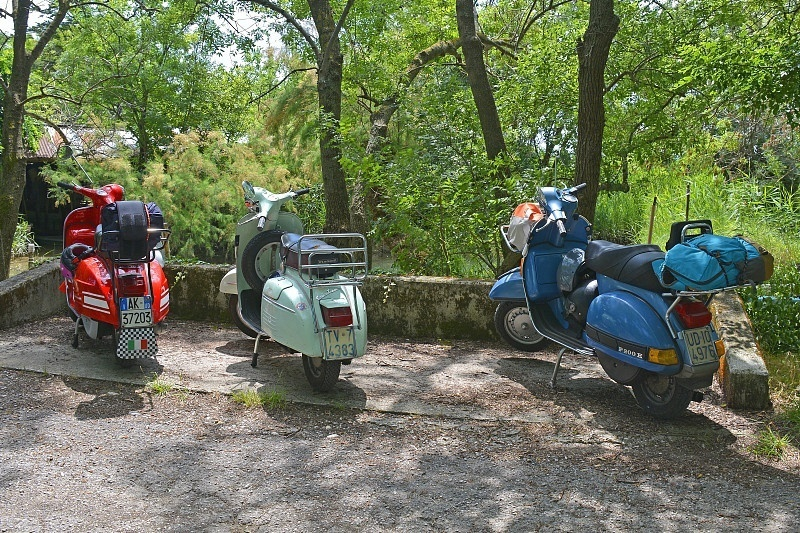non-vehicle: (490, 191, 785, 411), (216, 182, 380, 392), (50, 174, 174, 372)
